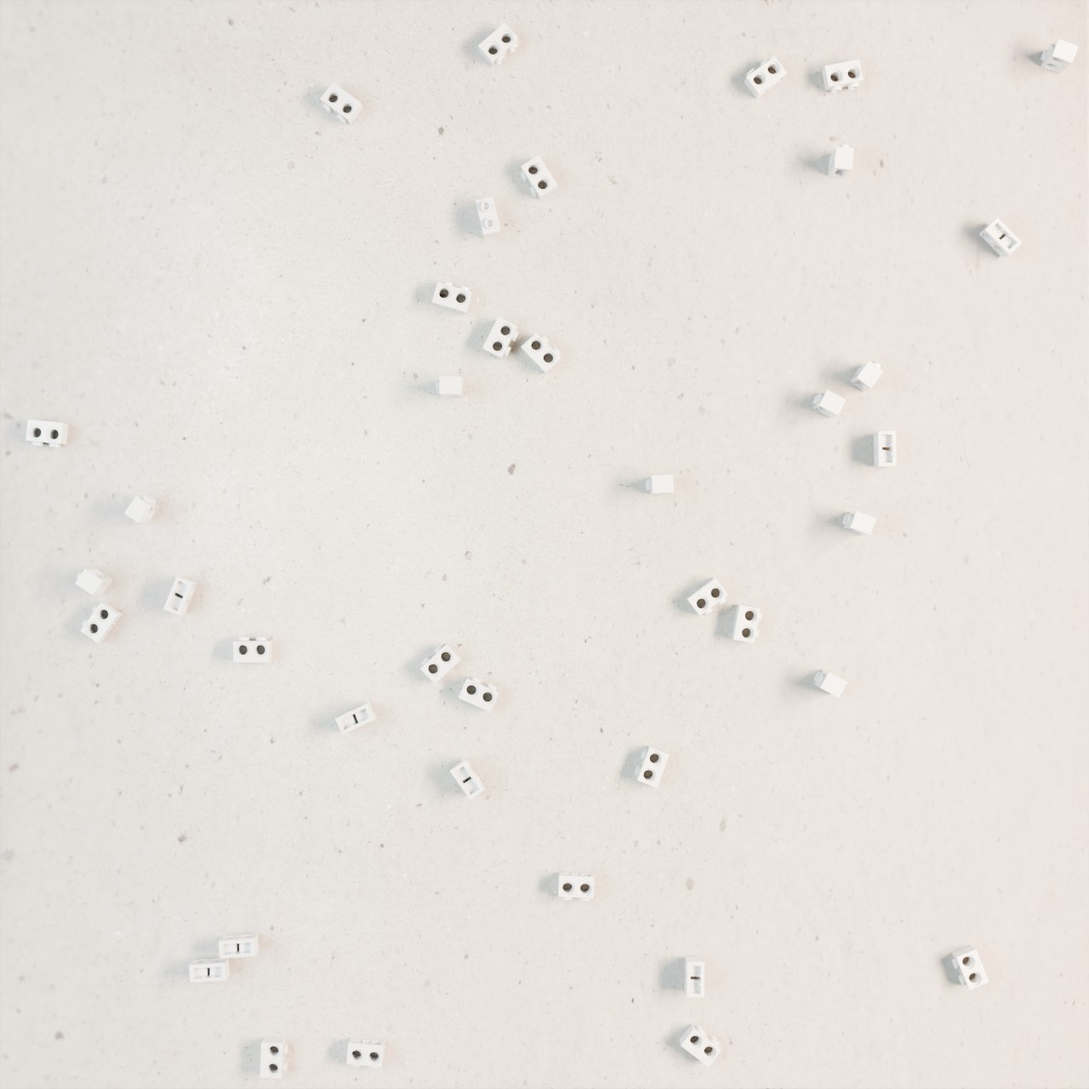lego: (679, 1023, 722, 1067), (320, 82, 363, 125), (744, 56, 787, 99), (478, 22, 519, 67), (979, 217, 1022, 259), (80, 602, 123, 643), (520, 155, 558, 200), (951, 945, 989, 990), (521, 332, 561, 374), (420, 644, 461, 684), (686, 578, 728, 616), (482, 317, 519, 360), (634, 745, 669, 788), (458, 676, 499, 712), (450, 758, 485, 800), (163, 576, 198, 616), (822, 59, 863, 93), (335, 702, 377, 735), (432, 281, 472, 315), (1041, 39, 1079, 74), (346, 1037, 385, 1069), (26, 419, 68, 448), (731, 604, 762, 643), (260, 1037, 288, 1079), (850, 360, 884, 392), (476, 196, 501, 239), (189, 957, 230, 983), (218, 933, 259, 959), (558, 872, 594, 901), (124, 495, 160, 524), (75, 568, 113, 595), (233, 637, 272, 663), (814, 669, 848, 698), (812, 390, 846, 418), (828, 144, 854, 178), (842, 511, 877, 535), (685, 956, 705, 998), (874, 431, 896, 467), (436, 376, 463, 398), (646, 474, 674, 494)
